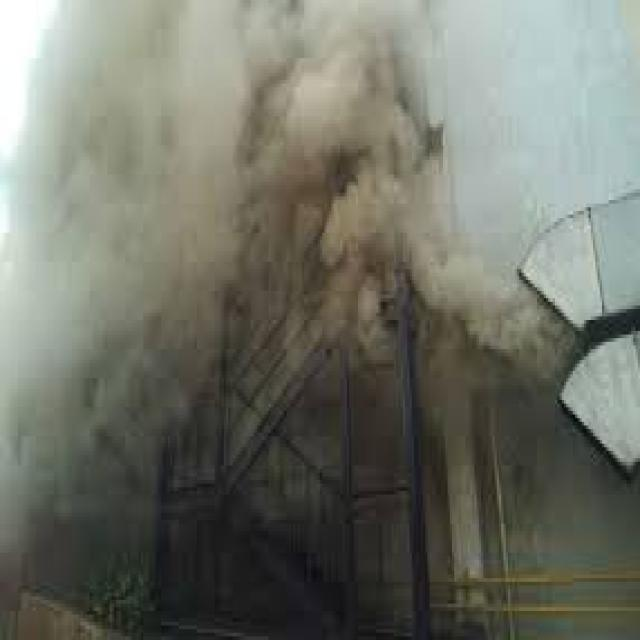smoke: (4, 1, 488, 513)
